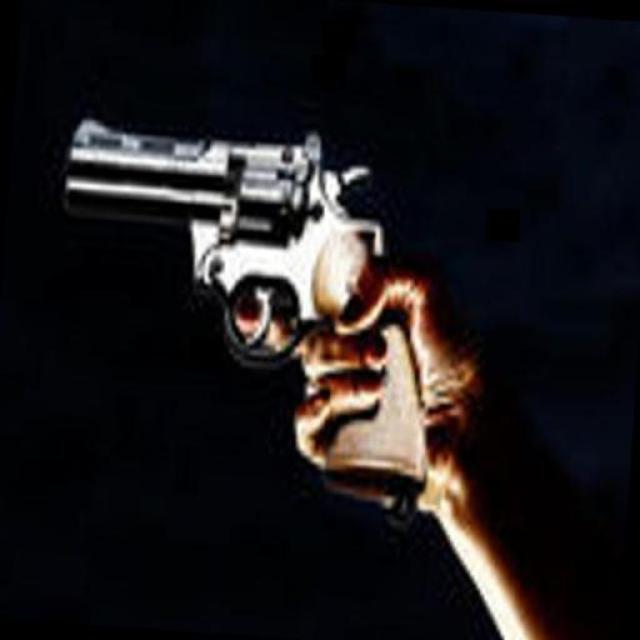gun: (29, 94, 455, 504)
